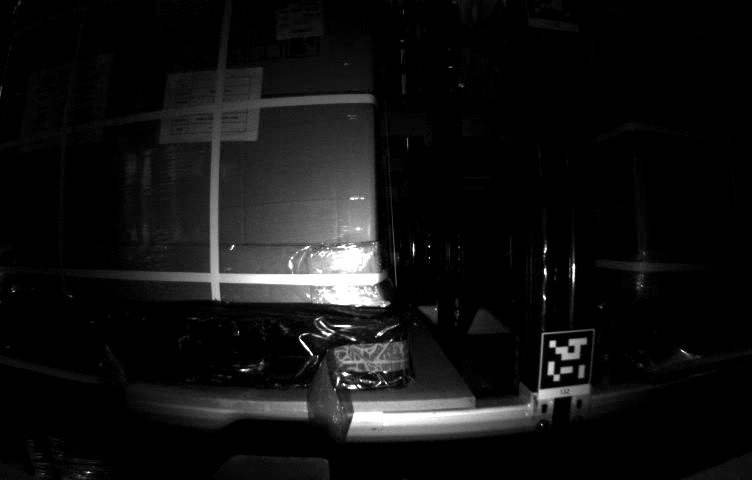True Barcode: (275, 1, 326, 35)
